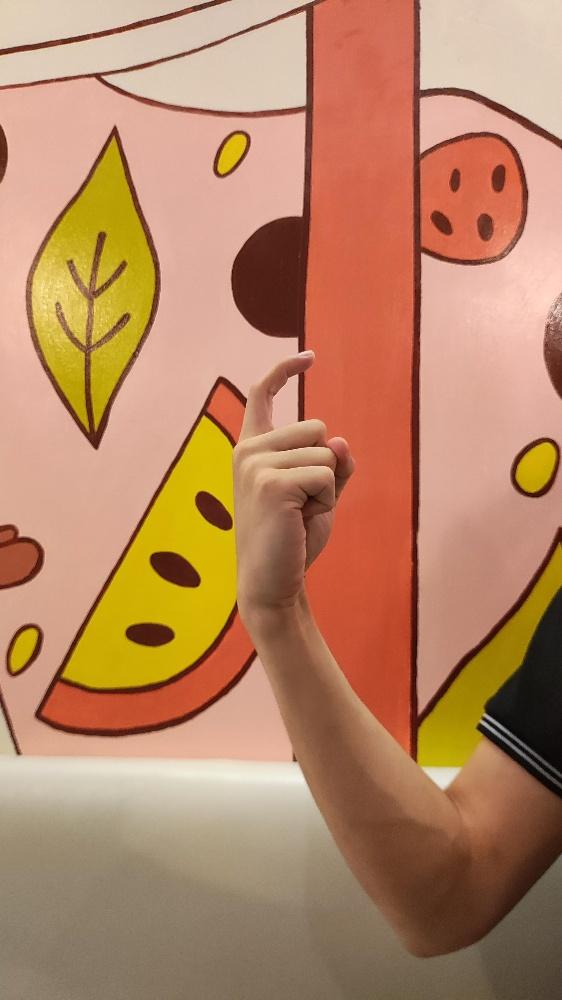x: (230, 348, 356, 611)
